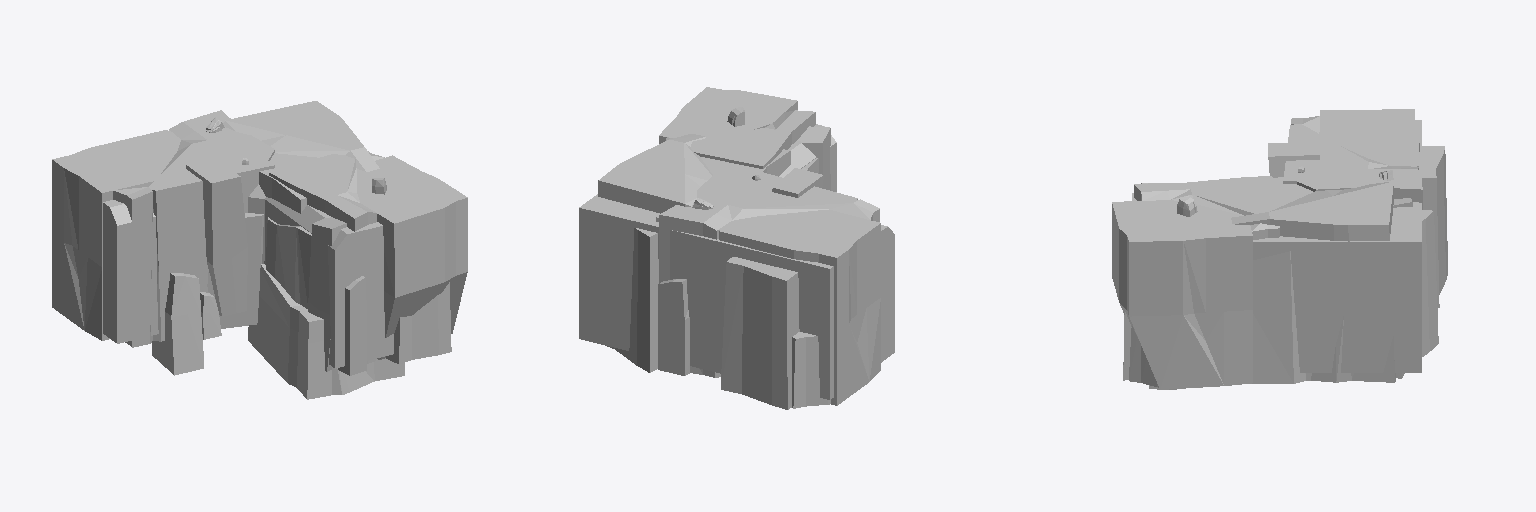
The model's file is cliff_1110_0000.obj.
The picture shows the model from 3 angles: view 1: azimuth 30°, elevation 25°; view 2: azimuth 150°, elevation 25°; view 3: azimuth 270°, elevation 25°; orthographic projection.
Parts seen in each view (by area): view 1: tile_1110_0000; view 2: tile_1110_0000; view 3: tile_1110_0000.
Boxes of the visible parts, <box> form: tile_1110_0000: <box>52,101,467,399</box>; tile_1110_0000: <box>579,87,894,409</box>; tile_1110_0000: <box>1112,109,1447,389</box>.
Size of the model in its own units: 2.18 by 1.43 by 2.32.